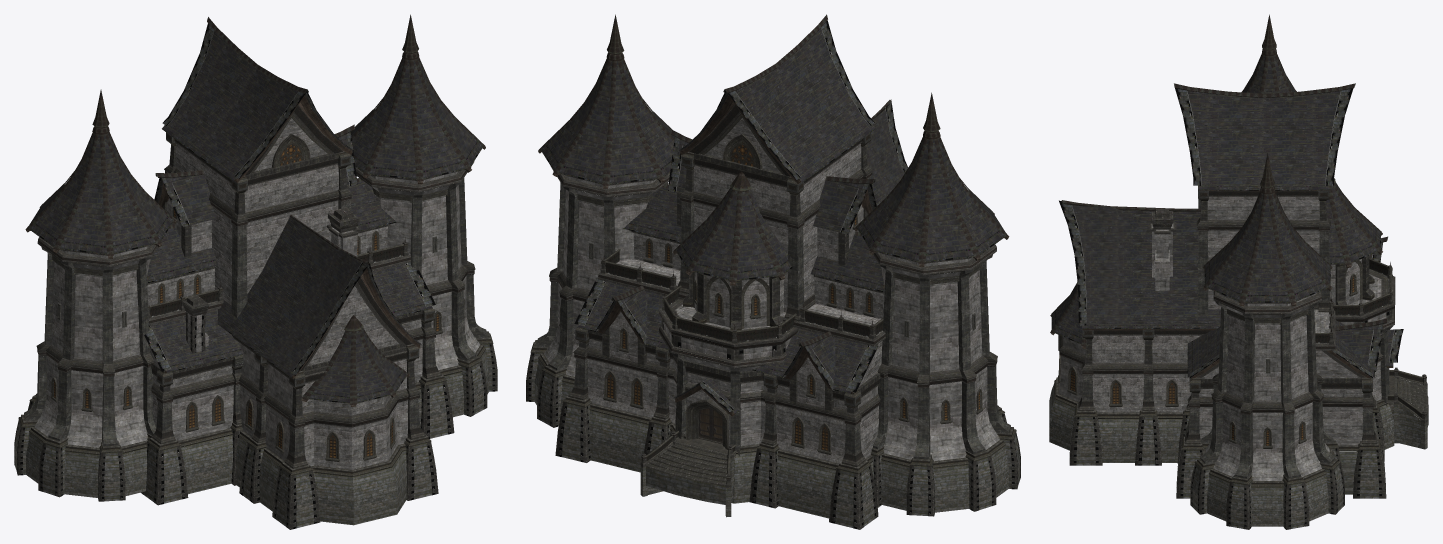
The model's file is eso_gu4_LargeManor-transformed.glb.
3 renders of one model, left to right at view 1: azimuth 30°, elevation 25°; view 2: azimuth 150°, elevation 25°; view 3: azimuth 270°, elevation 25°, orthographic. The views are drawn at different scales.
Visible parts, largest first — view 1: default; view 2: default; view 3: default.
Boxes of the visible parts, x1,y1,x2,y2 form: default: [14, 14, 497, 529]; default: [526, 14, 1020, 529]; default: [1049, 14, 1428, 529].
Size of the model in its own units: 77.22 by 61.78 by 60.8.
Materials: 11 (11 with a texture image).
